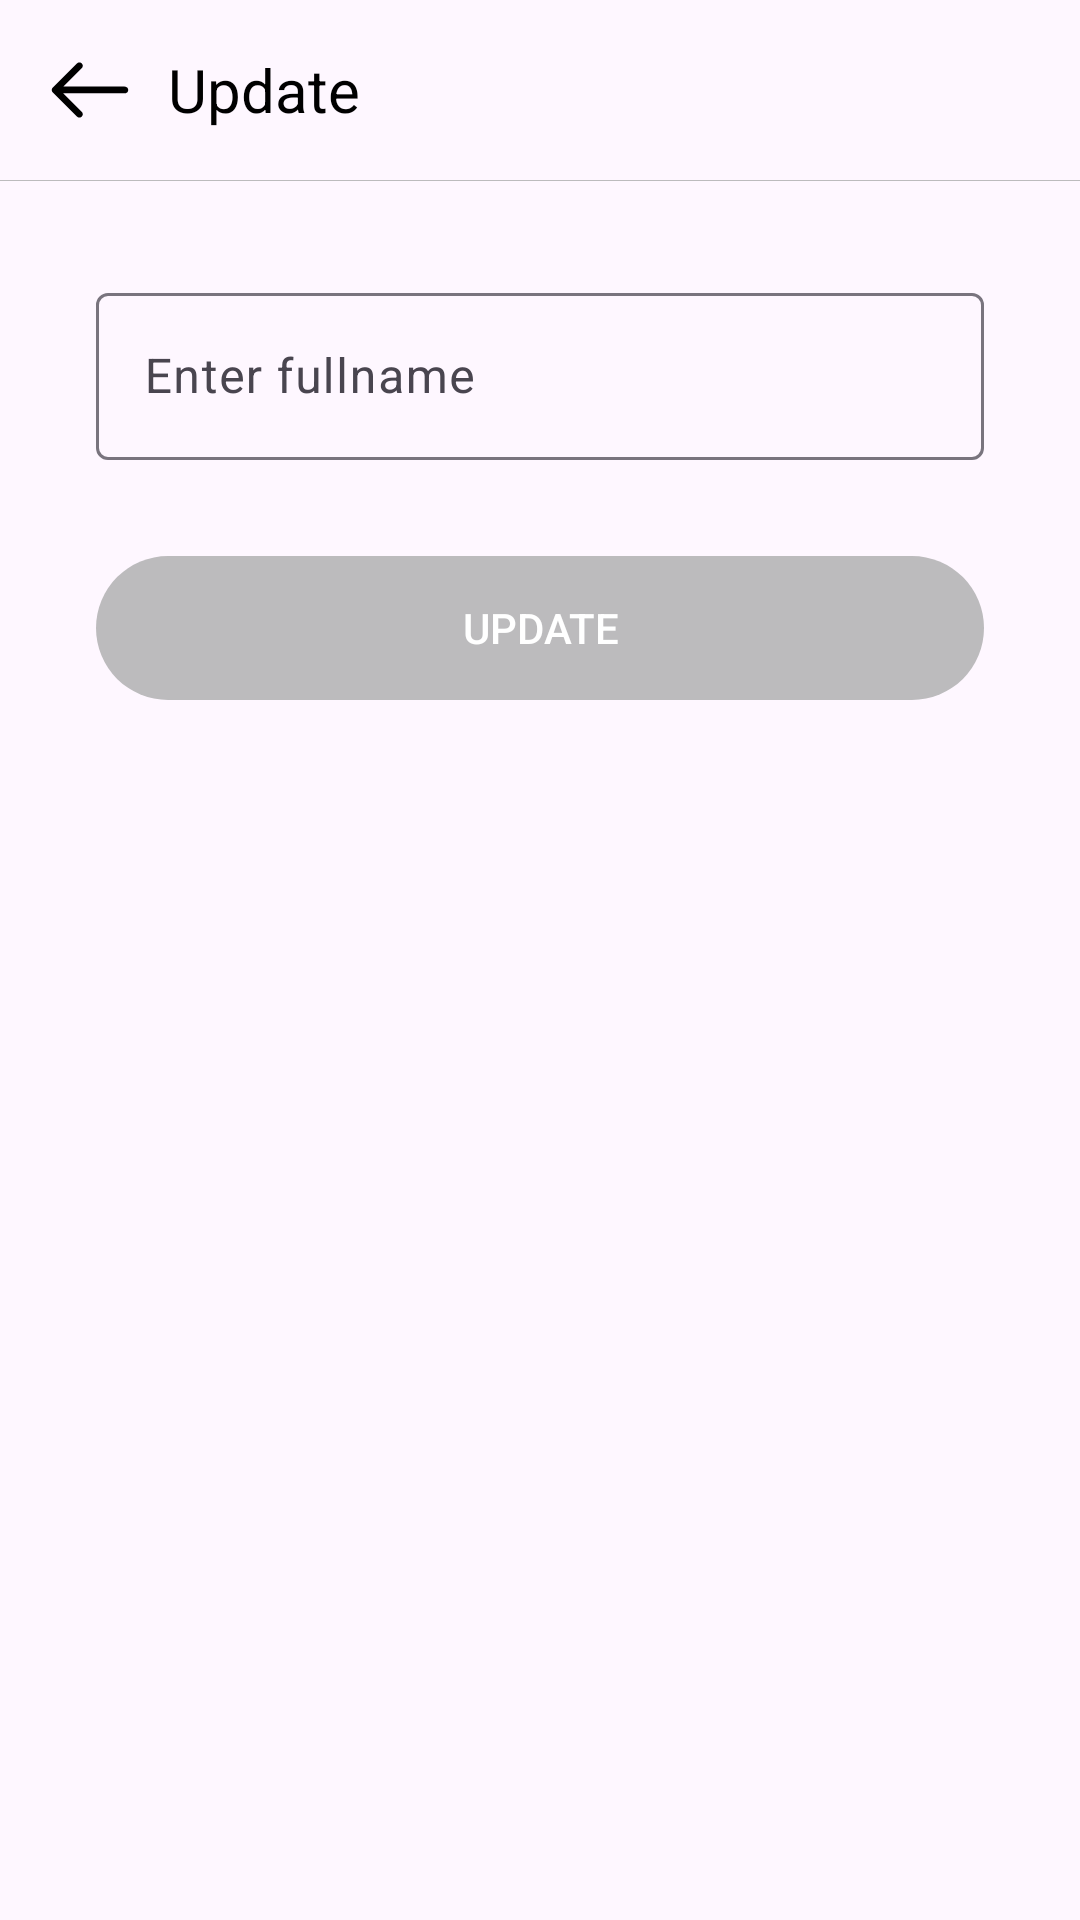

Locate icon controls on the screen. Image size 1080 × 1920, boxes as (x1, y1, x2, y2).
back: (51, 62, 129, 118)
